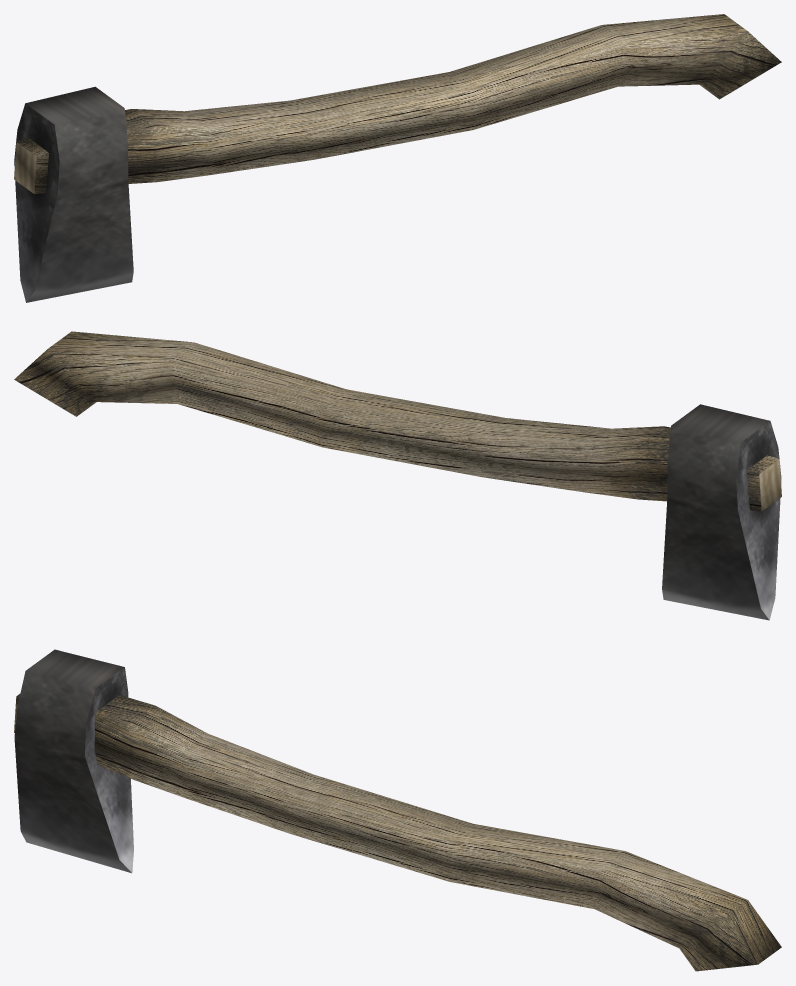
Rendered from axe.fbx.
The picture shows the model from 3 angles, top to bottom: view 1: azimuth 30°, elevation 25°; view 2: azimuth 150°, elevation 25°; view 3: azimuth 330°, elevation 25°; orthographic projection.
Parts seen in each view (by area): view 1: Cube.001; view 2: Cube.001; view 3: Cube.001.
Boxes of the visible parts, x1,y1,x2,y2 form: Cube.001: (14,14,781,302); Cube.001: (14,331,781,620); Cube.001: (14,649,781,971).
Bounding box in the file's own units: 39.85 × 9.74 × 4.04.
Materials: 1 (1 with a texture image).
